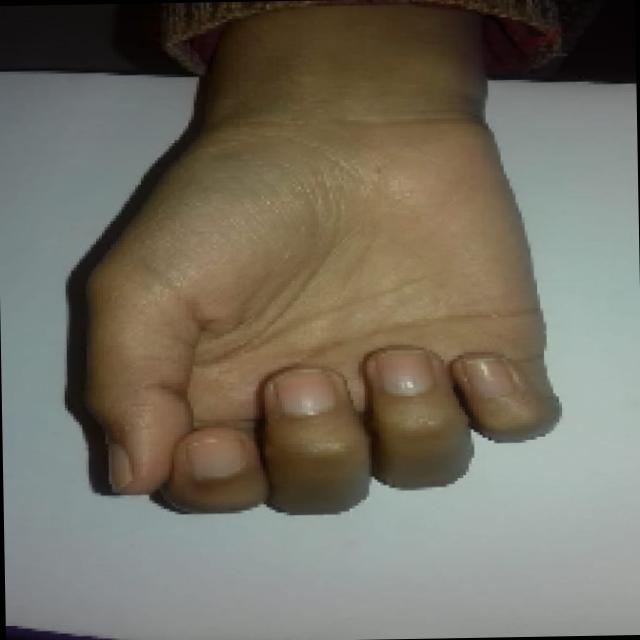Nail: (275, 369, 335, 415), (376, 349, 434, 396), (187, 433, 245, 479), (466, 355, 514, 396), (107, 442, 132, 492)
